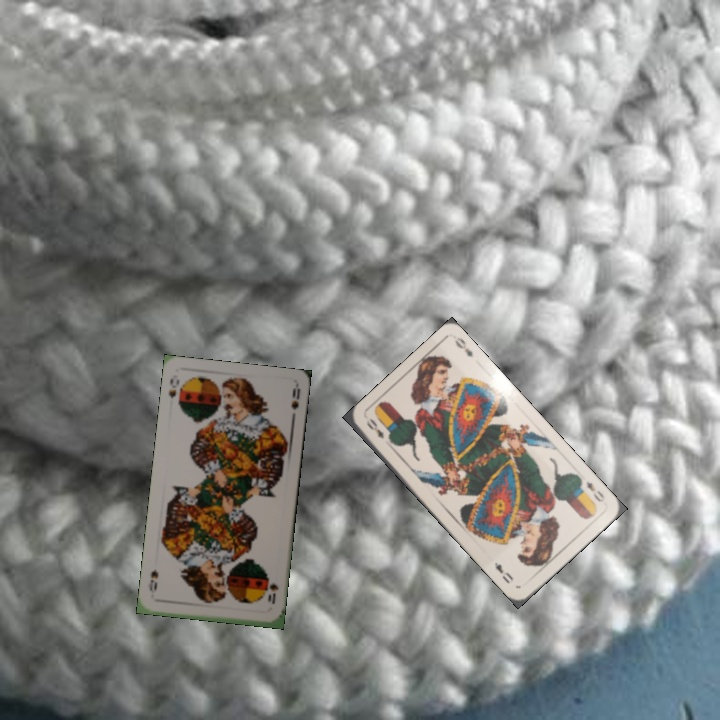EO: (575, 475, 607, 505), (362, 414, 387, 442)
SO: (263, 574, 281, 606), (165, 374, 182, 400)
